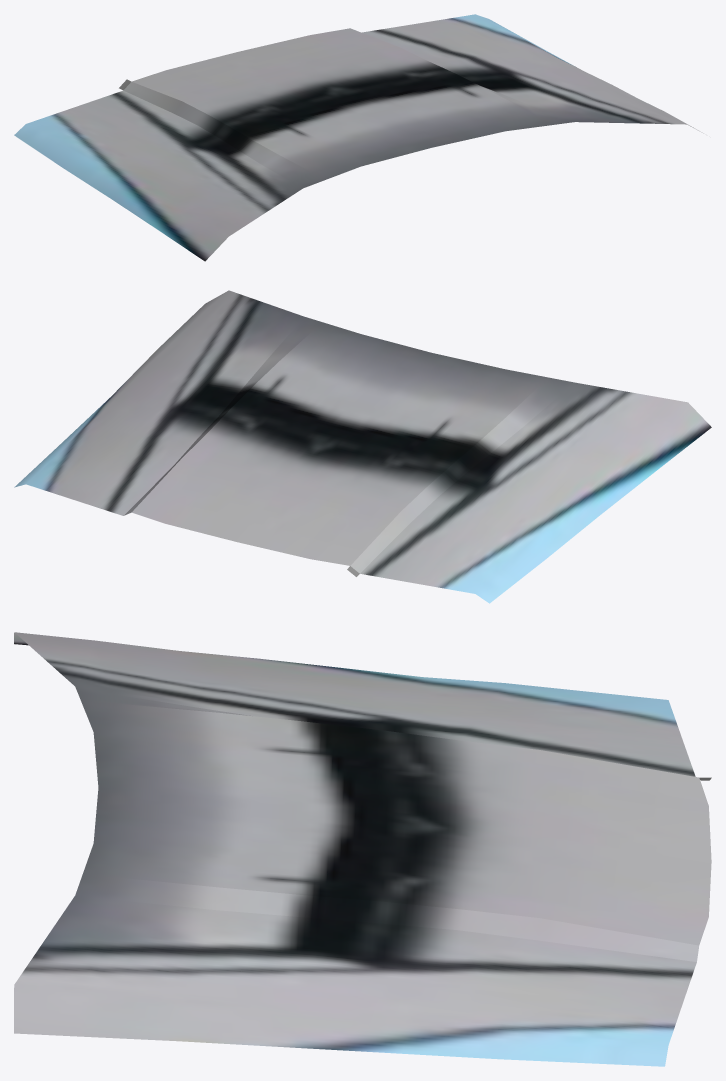
File: cofre.obj
3 renders of one model, top to bottom at view 1: azimuth 30°, elevation 25°; view 2: azimuth 150°, elevation 25°; view 3: azimuth 270°, elevation 25°, orthographic. The views are drawn at different scales.
Visible parts, largest first — view 1: 2107.001_CarPaint.001; view 2: 2107.001_CarPaint.001; view 3: 2107.001_CarPaint.001.
Part boxes in pixels (x1,y1,x2,y2): 2107.001_CarPaint.001: (14,14,703,261); 2107.001_CarPaint.001: (14,290,711,603); 2107.001_CarPaint.001: (14,632,711,1066).
Size of the model in its own units: 1.5 by 0.1737 by 1.14.
Materials: 2 (1 with a texture image).
